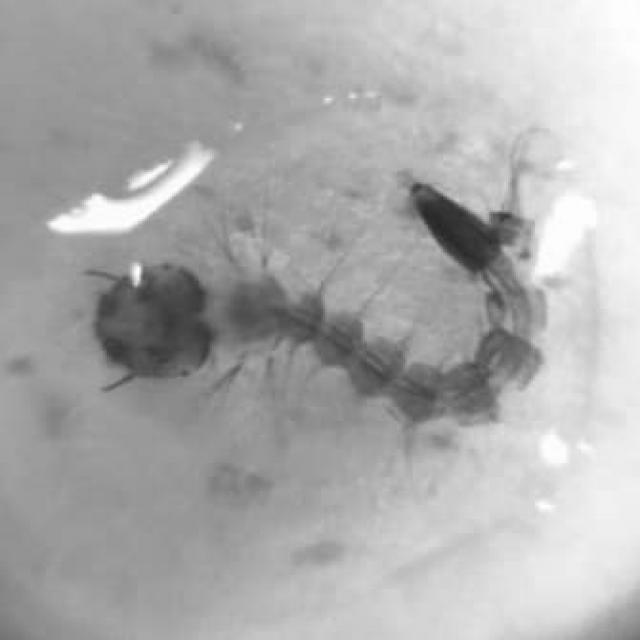larvas: (98, 180, 532, 435)
